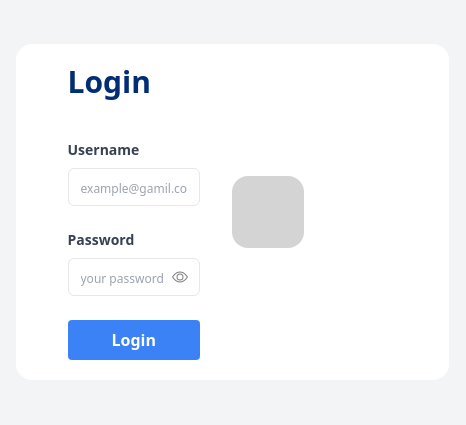
LoginPage › shows error message with invalid credentials
This screenshot has width=466, height=425.
In the field labelled "Username": (134, 187) [68, 168, 200, 206], type "Invalid User"
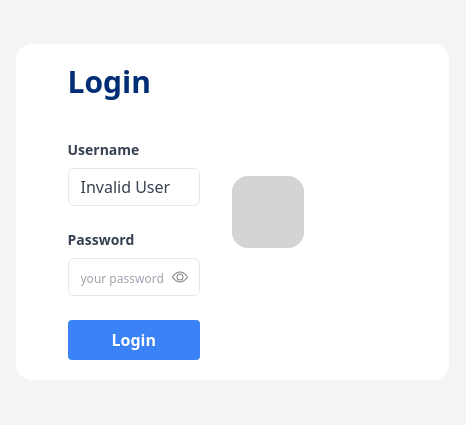
In the password field labelled "Password": (134, 277) [68, 258, 200, 296], type "invalidpassword"
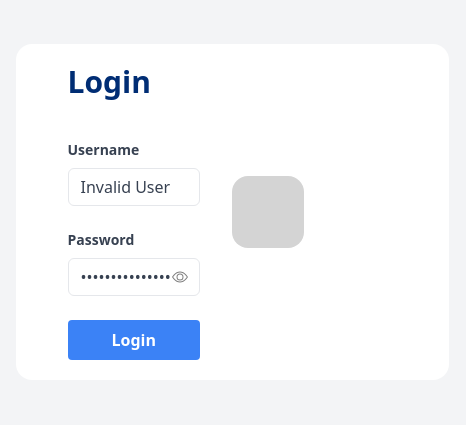
Click the button "Login": (134, 340) [68, 320, 200, 360]
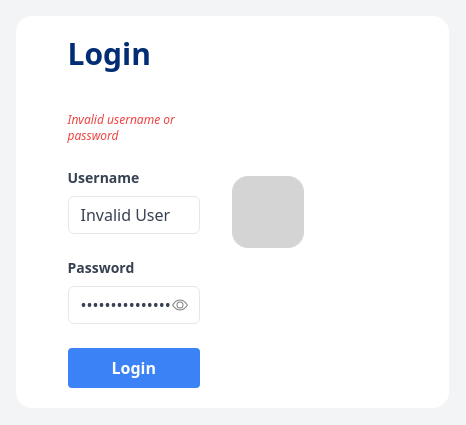
Now the message reads "Invalid username or password", box [68, 111, 175, 144]
